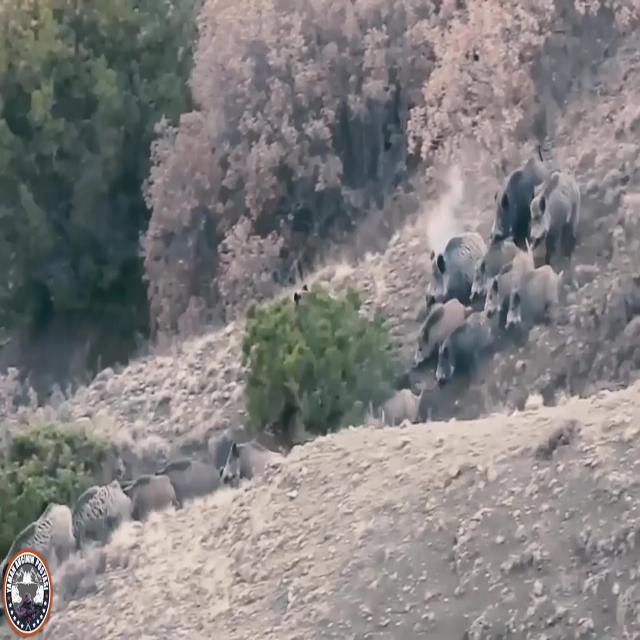pig: (525, 163, 590, 259), (482, 156, 543, 249), (427, 320, 508, 387), (504, 264, 573, 340), (423, 232, 483, 308), (405, 296, 470, 366), (482, 261, 541, 329), (464, 236, 515, 310)
